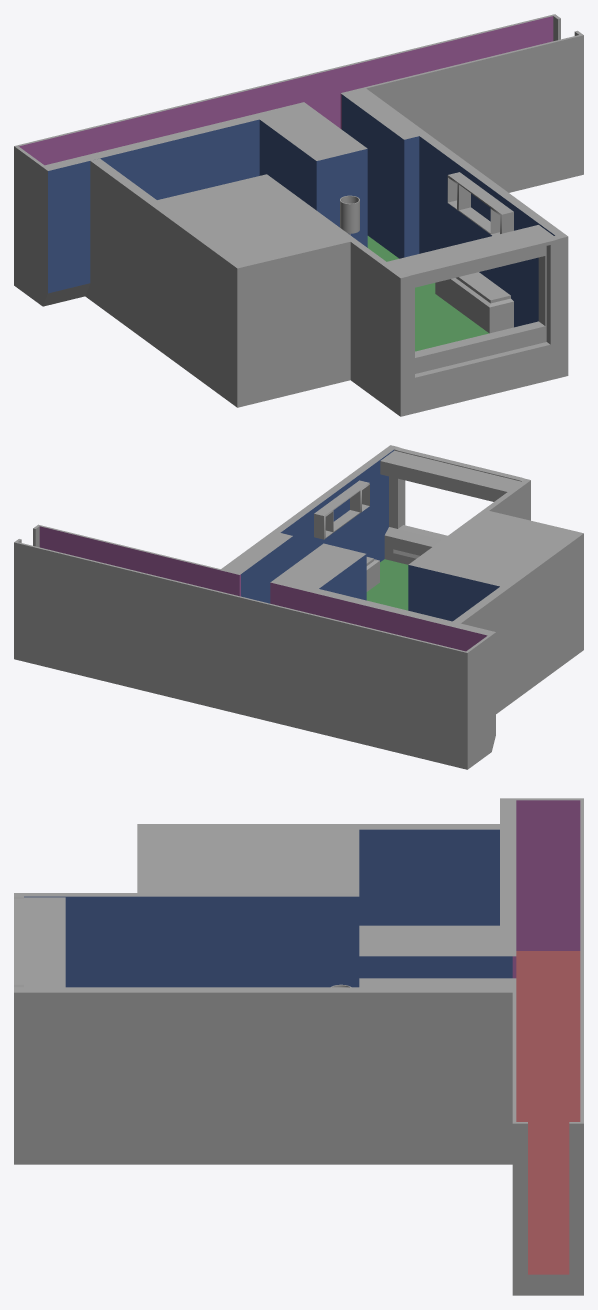
The model's file is hallwayRoom.fbx.
3 renders of one model, top to bottom at view 1: azimuth 30°, elevation 25°; view 2: azimuth 150°, elevation 25°; view 3: azimuth 270°, elevation 25°, orthographic. The views are drawn at different scales.
Parts seen in each view (by area): view 1: room1, pCube8, pCube9, pCube10, pPipe1; view 2: room1, pCube8, pCube10; view 3: room1, pCube10, pCube8.
Boxes of the visible parts, bbox=[...] form: room1: bbox=[14, 14, 583, 416]; pCube8: bbox=[387, 225, 553, 373]; pCube9: bbox=[435, 272, 513, 333]; pCube10: bbox=[447, 172, 513, 235]; pPipe1: bbox=[340, 195, 359, 233]; room1: bbox=[14, 445, 583, 769]; pCube8: bbox=[380, 450, 521, 564]; pCube10: bbox=[314, 480, 369, 539]; room1: bbox=[14, 798, 583, 1295]; pCube10: bbox=[126, 1000, 260, 1035]; pCube8: bbox=[24, 897, 65, 987].
Size of the model in its own units: 73.54 by 18.11 by 54.43.
